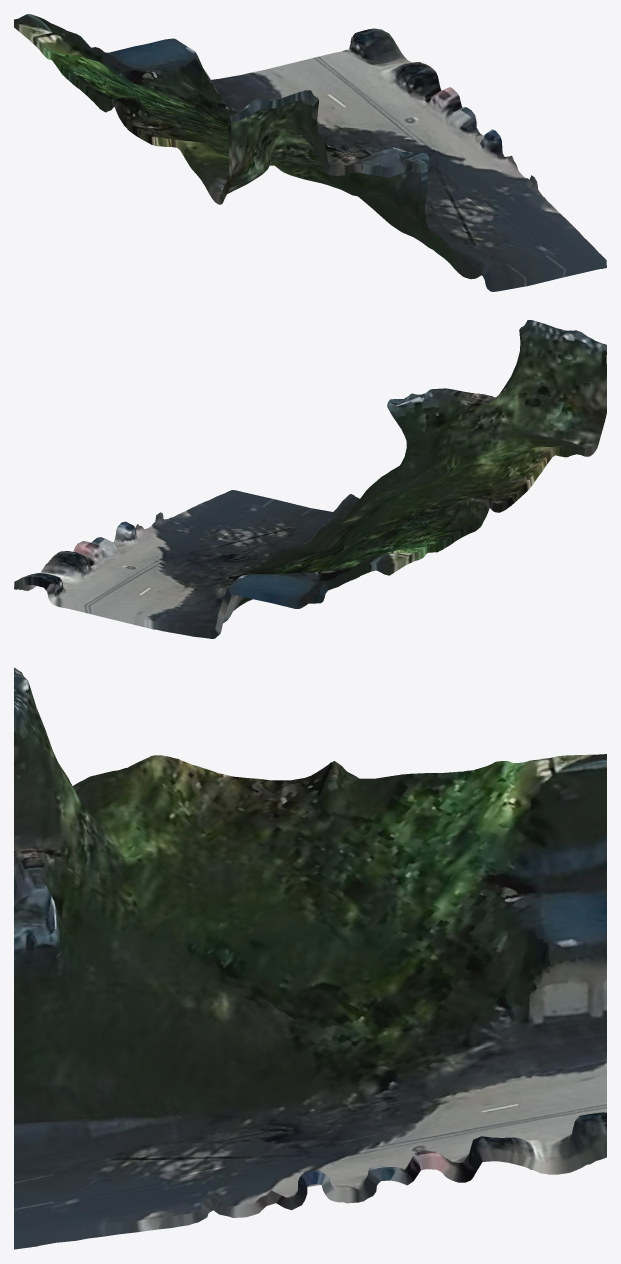
The model's file is z20-167721-405192-h0-yup-uvflip-v3-world.glb.
3 renders of one model, top to bottom at view 1: azimuth 30°, elevation 25°; view 2: azimuth 150°, elevation 25°; view 3: azimuth 270°, elevation 25°, orthographic. The views are drawn at different scales.
Size of the model in its own units: 30.2 by 19.32 by 30.32.
1 material, 1 textured.
